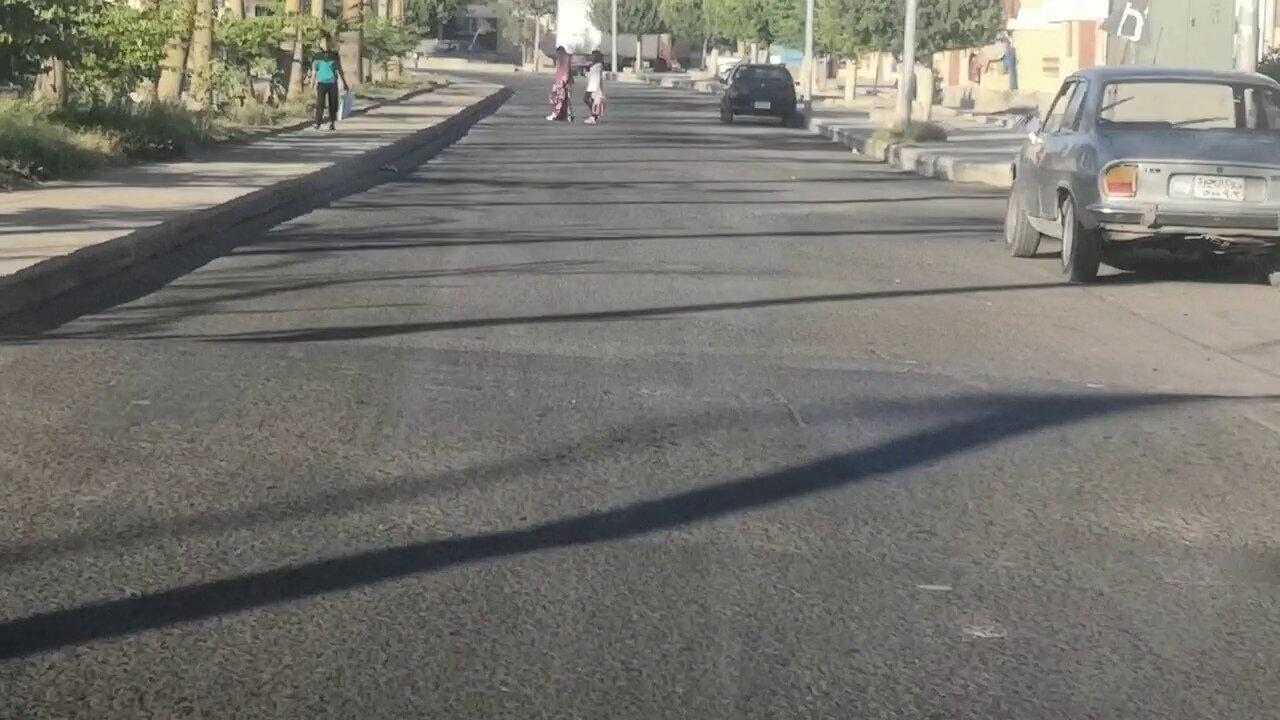Bump: (55, 330, 1280, 532)
